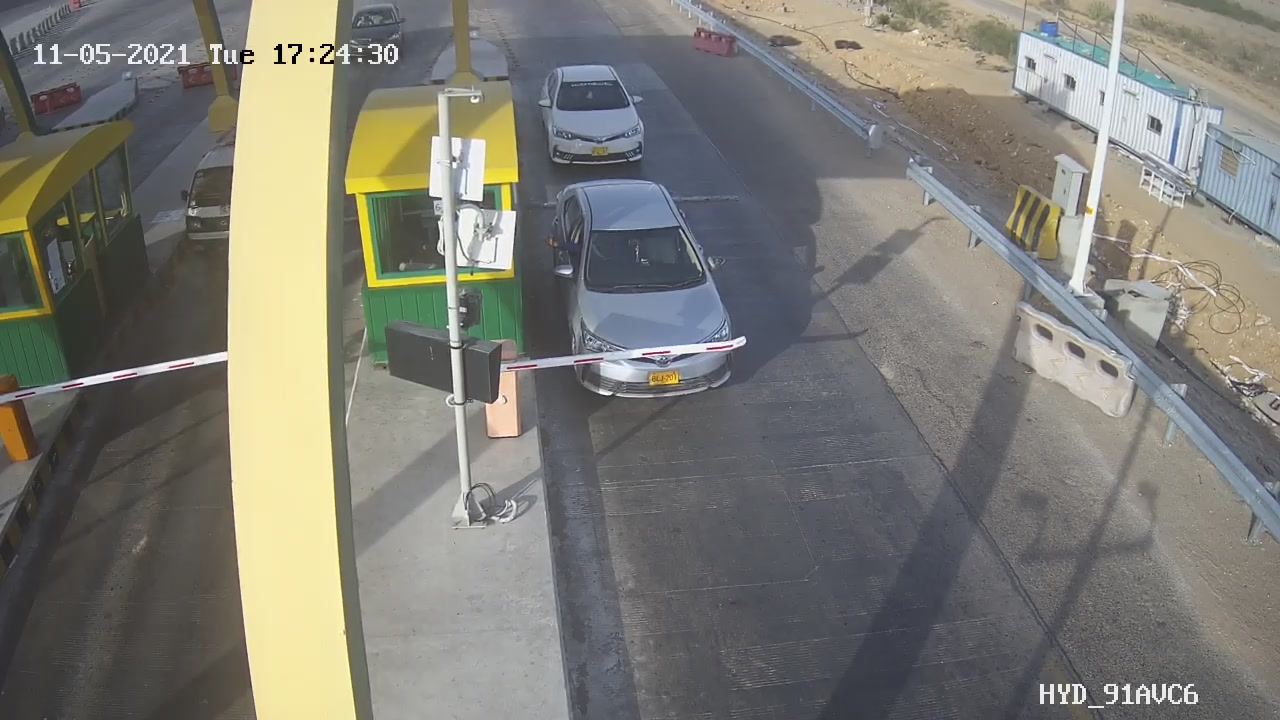F1: (529, 165, 755, 424), (521, 48, 668, 182)
